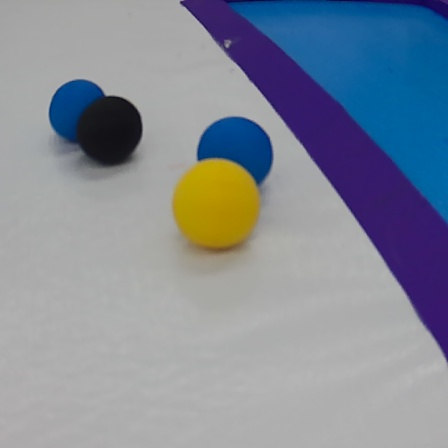black: (75, 96, 149, 168)
blue: (198, 112, 280, 187), (49, 77, 111, 146)
blue_aim: (174, 2, 448, 368)
yellow: (170, 154, 267, 256)
